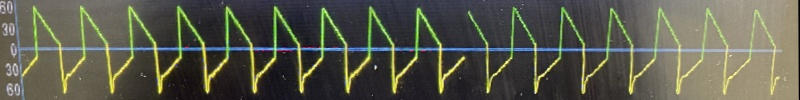peepi: (17, 0, 789, 100)
